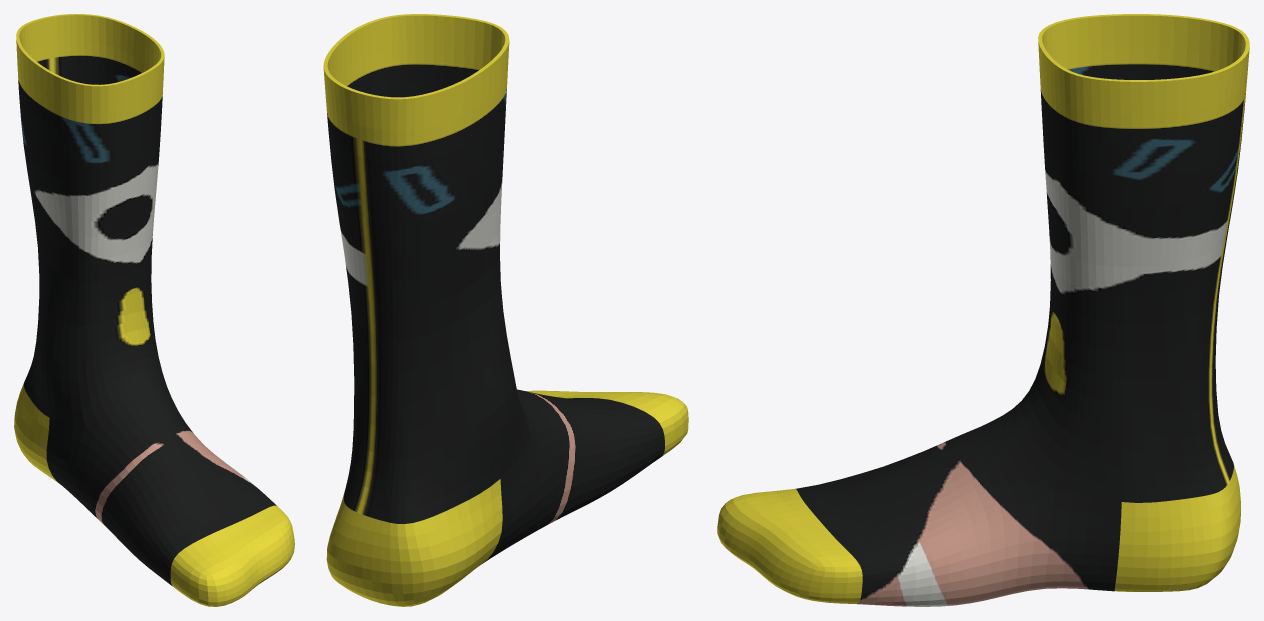
Rendered from sock 3.gltf.
3 views of the same model, side by side, from view 1: azimuth 30°, elevation 25°; view 2: azimuth 150°, elevation 25°; view 3: azimuth 270°, elevation 25° (orthographic). The views are drawn at different scales.
Visible parts, largest first — view 1: Object_3, Object_4, Object_2; view 2: Object_3, Object_2, Object_4; view 3: Object_3, Object_4, Object_2.
Part boxes in pixels (x1,y1,x2,y2): Object_3: [16, 14, 277, 585]; Object_4: [170, 505, 294, 606]; Object_2: [14, 383, 59, 483]; Object_3: [323, 14, 665, 564]; Object_2: [326, 479, 502, 606]; Object_4: [525, 390, 688, 455]; Object_3: [795, 14, 1249, 606]; Object_4: [717, 489, 862, 603]; Object_2: [1114, 465, 1240, 591].
Size of the model in its own units: 2.03 by 5.89 by 5.43.
3 materials, 3 textured.
